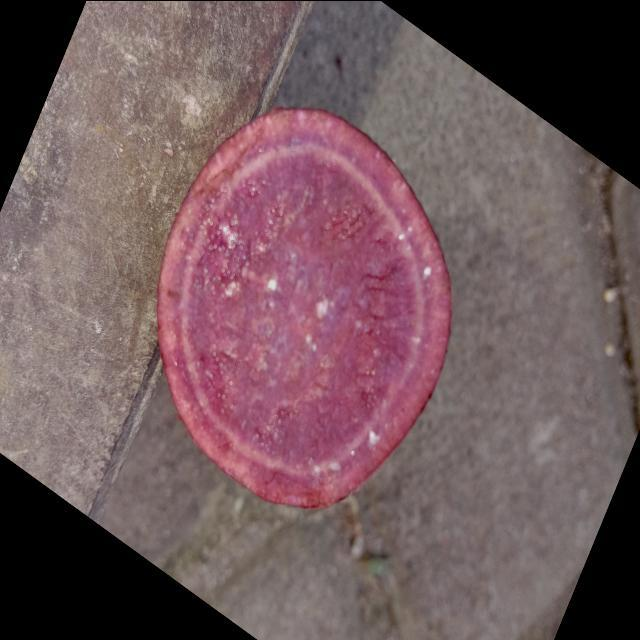Healthy Sweet Potato: (158, 108, 451, 507)
